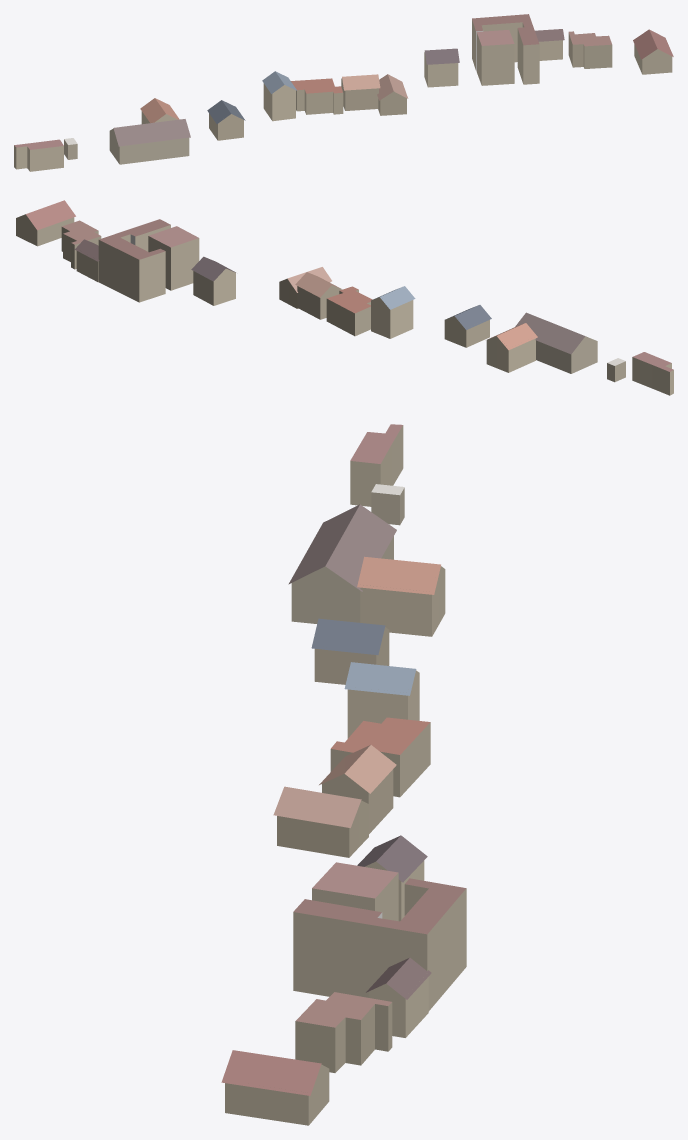
3 renders of one model, top to bottom at view 1: azimuth 30°, elevation 25°; view 2: azimuth 150°, elevation 25°; view 3: azimuth 270°, elevation 25°, orthographic. The views are drawn at different scales.
Parts seen in each view (by area): view 1: tuile; view 2: tuile; view 3: tuile.
Boxes of the visible parts, <box> form: tuile: <box>14,14,673,171</box>; tuile: <box>16,200,673,395</box>; tuile: <box>221,424,466,1125</box>.
Size of the model in its own units: 186 by 14.58 by 31.39.
